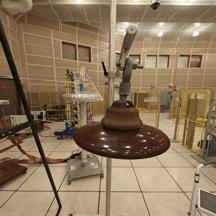insulator: (73, 97, 174, 164)
